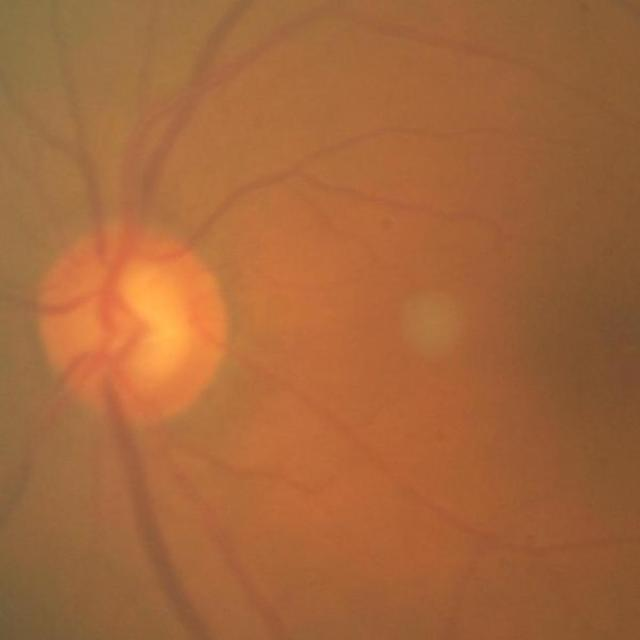OC: (86, 269, 189, 383)
OD: (43, 228, 226, 424)
